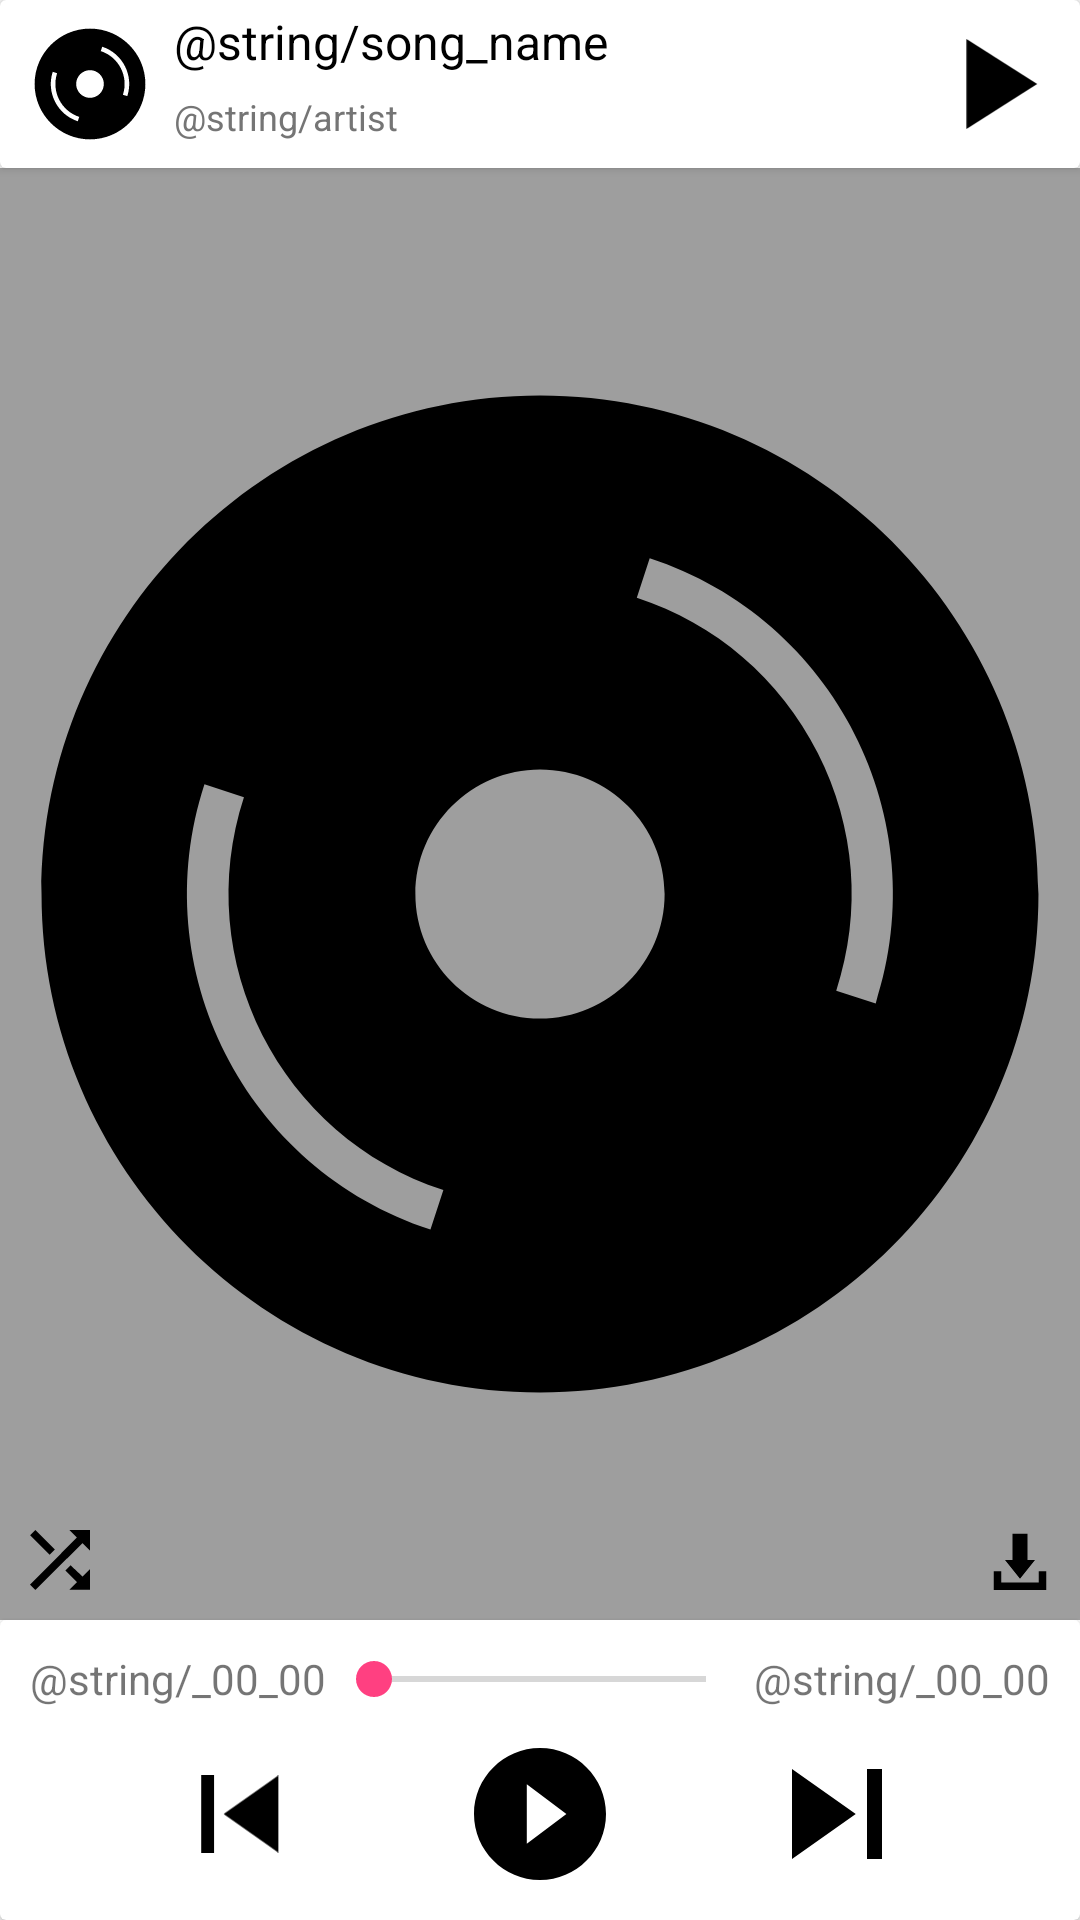

Icon bounding boxes for this 1080 x 1920 phone screenshot, format detection(x1, y1, x2, y2):
downloaded: detection(993, 1533, 1047, 1590)
next: detection(792, 1769, 882, 1859)
play: detection(474, 1748, 606, 1880)
play collapse: detection(966, 39, 1037, 129)
previous: detection(201, 1775, 279, 1853)
shuffle: detection(30, 1530, 90, 1590)
